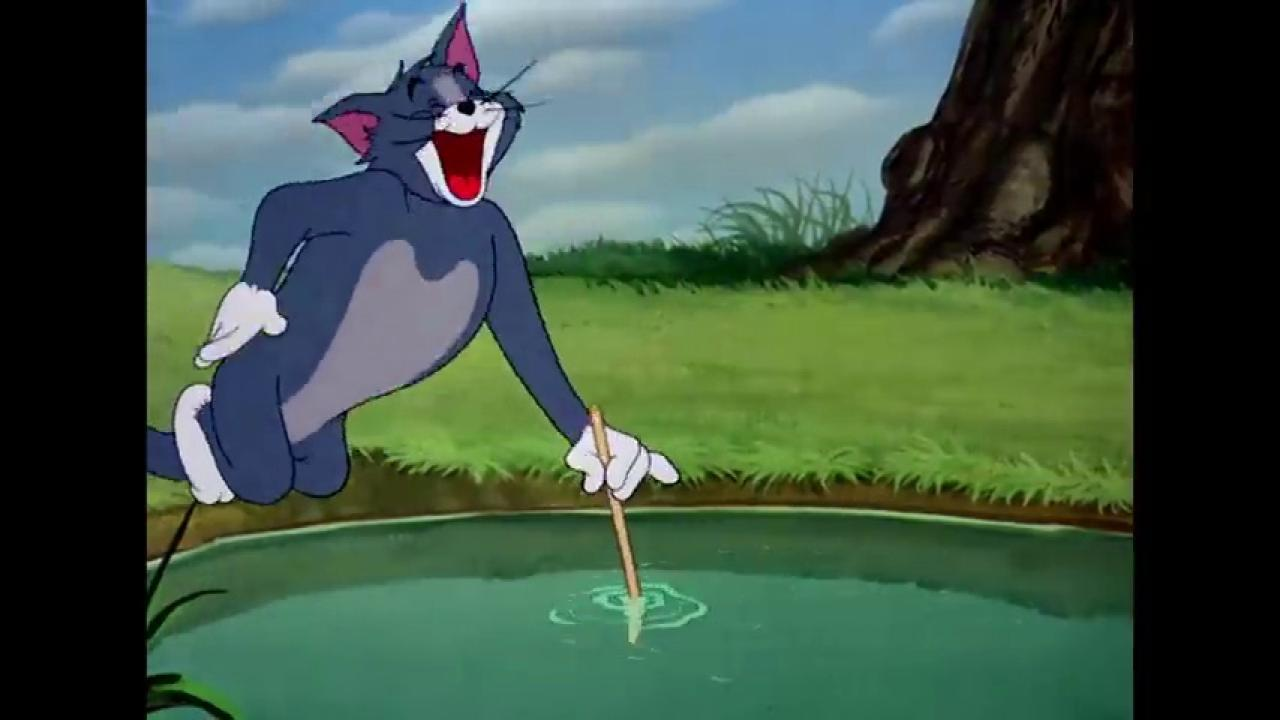Tom: (147, 1, 682, 502)
